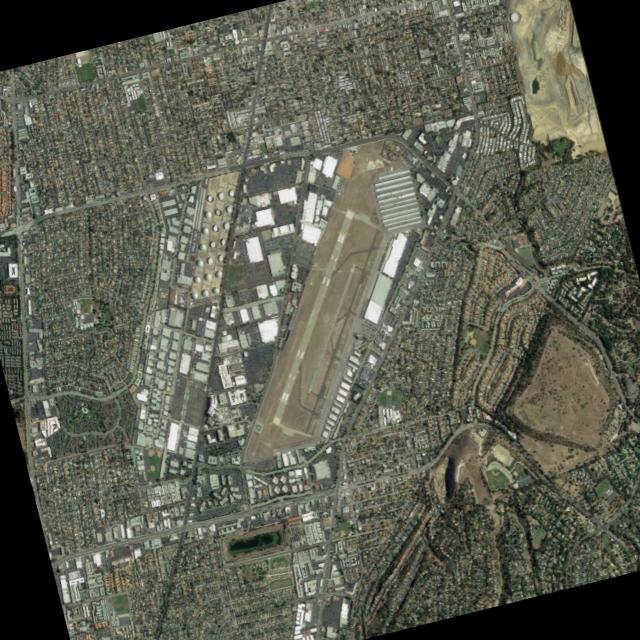storage-tank: (192, 274, 202, 284), (210, 222, 220, 232), (213, 268, 223, 278), (208, 238, 218, 247), (227, 187, 236, 196), (206, 255, 215, 264), (203, 209, 212, 218), (203, 271, 212, 280), (216, 190, 225, 199), (219, 236, 228, 245), (222, 220, 231, 229), (189, 290, 199, 298), (195, 258, 204, 266), (200, 225, 208, 234), (216, 253, 225, 261), (214, 206, 222, 214), (211, 285, 219, 293), (198, 241, 205, 250), (225, 204, 233, 211), (201, 288, 208, 295), (206, 194, 214, 200)
